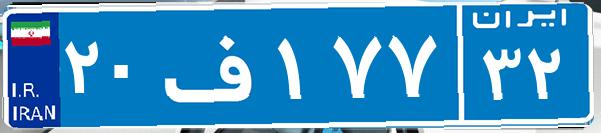0: (110, 28, 158, 105)
1: (273, 28, 330, 110)
2: (57, 26, 110, 107), (525, 38, 570, 115)
3: (475, 38, 525, 113)
7: (385, 28, 445, 110), (330, 28, 385, 110)
ف: (158, 15, 273, 115)
